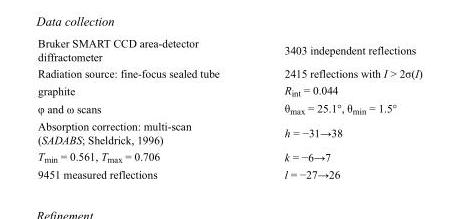table: (37, 36, 421, 180)
table column: (37, 36, 251, 180), (251, 36, 421, 180)
table row: (37, 117, 421, 147), (37, 36, 421, 64), (37, 81, 421, 99), (37, 99, 421, 117), (37, 147, 421, 165), (37, 64, 421, 81), (37, 165, 421, 180)
